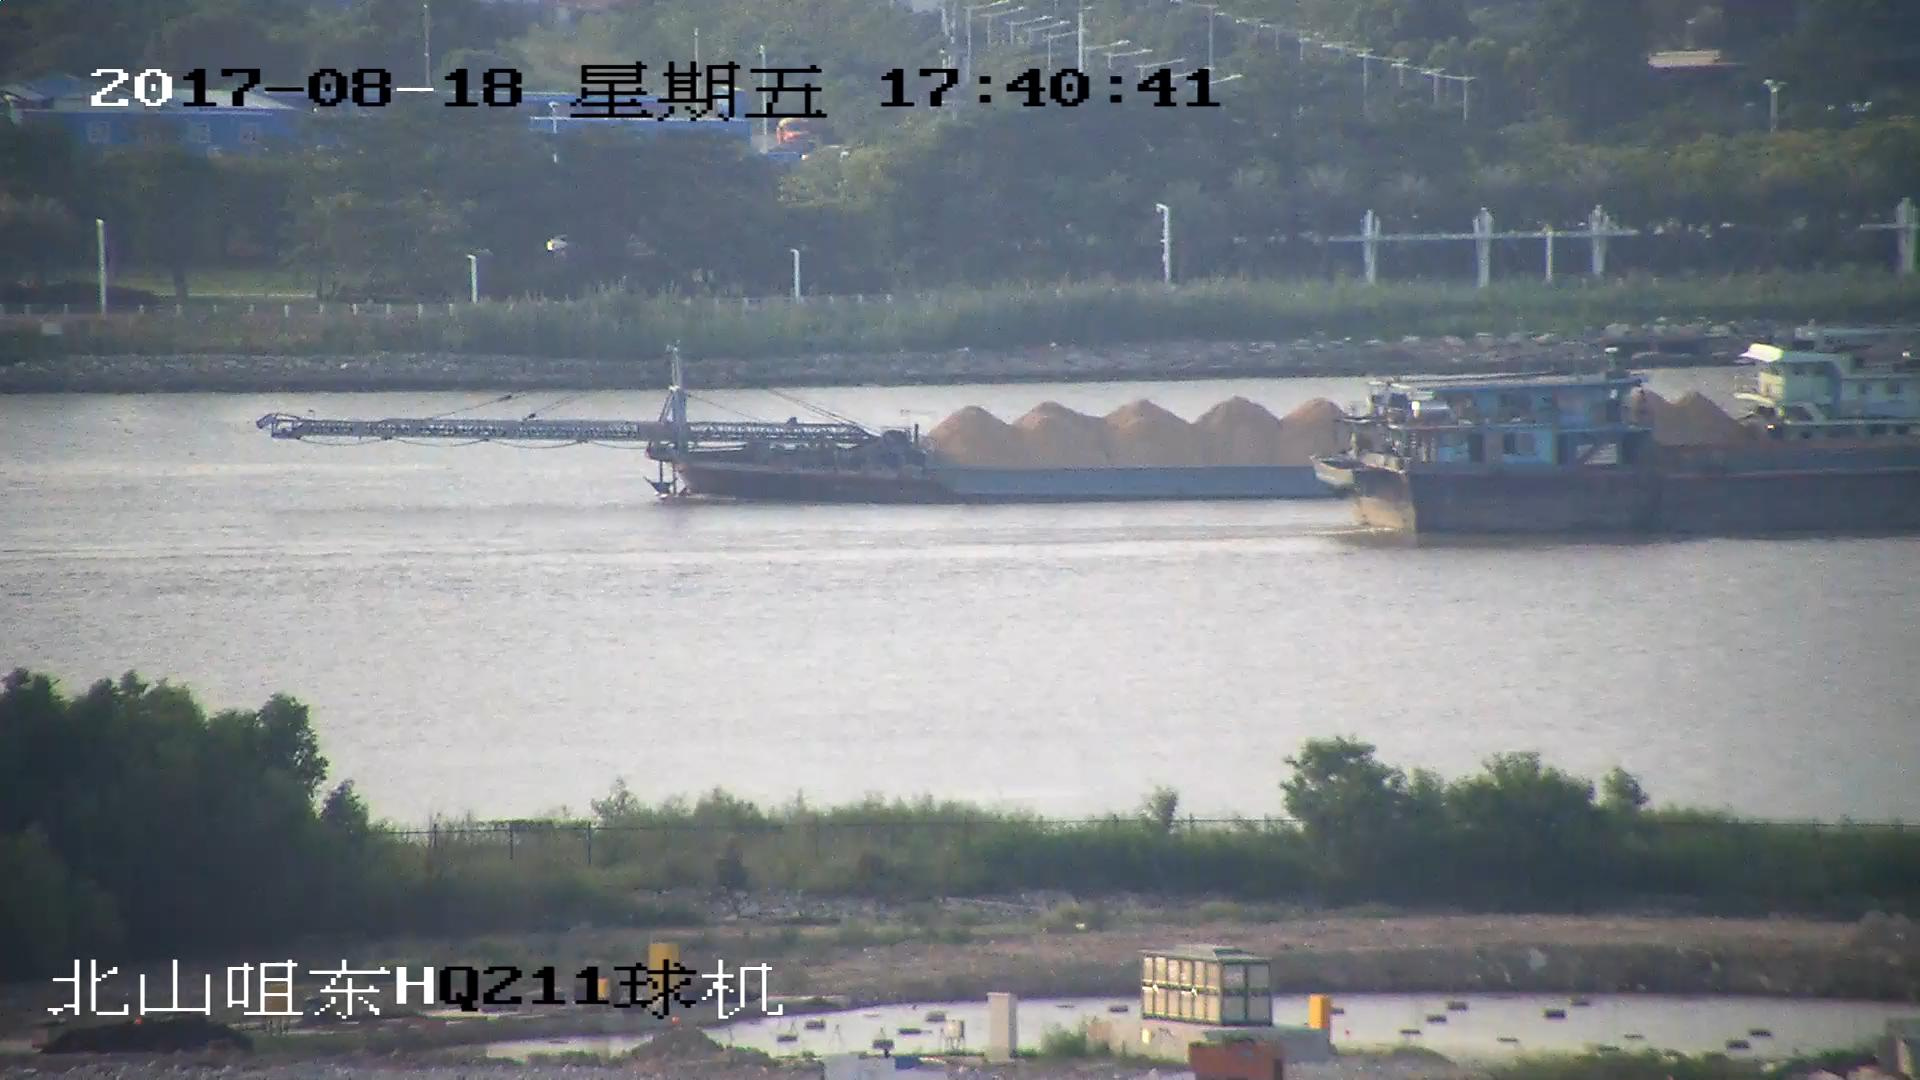bulk cargo carrier: (1315, 379, 1920, 537)
ore carrier: (256, 350, 1361, 511)
